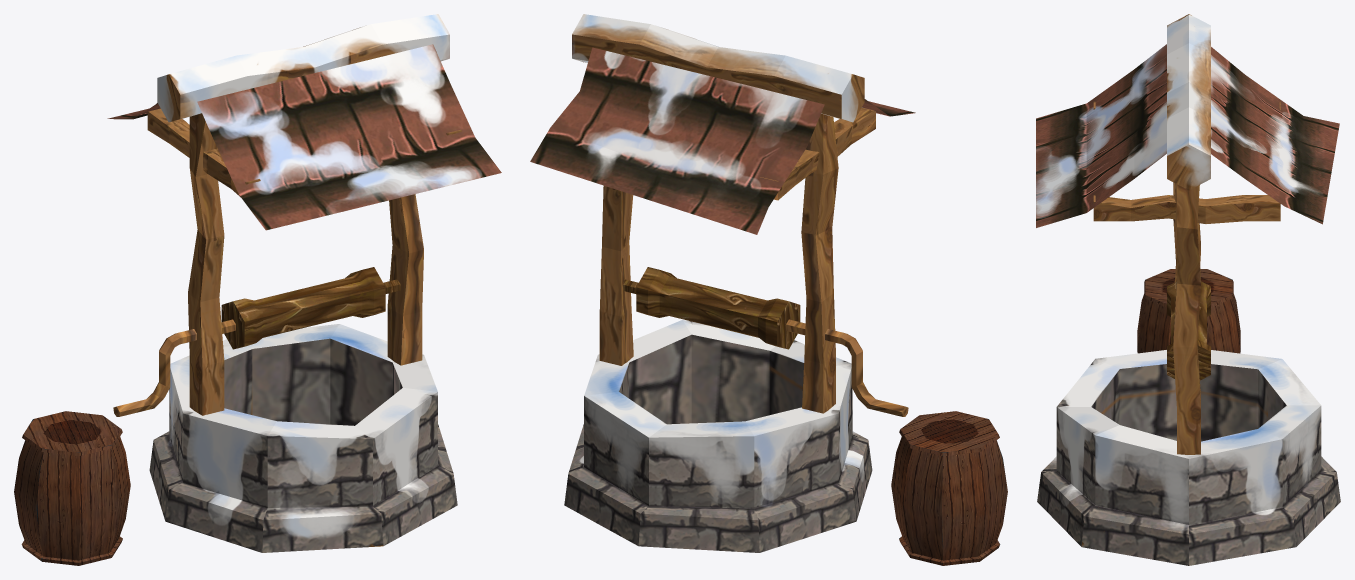
File: pond.fbx
The picture shows the model from 3 angles, left to right: view 1: azimuth 30°, elevation 25°; view 2: azimuth 150°, elevation 25°; view 3: azimuth 270°, elevation 25°; orthographic projection. The views are drawn at different scales.
Visible parts, largest first — view 1: pTorus2, pCylinder4; view 2: pTorus2, pCylinder4; view 3: pTorus2, pCylinder4.
Boxes of the visible parts, bbox=[...] form: pTorus2: bbox=[107, 14, 501, 552]; pCylinder4: bbox=[14, 411, 130, 565]; pTorus2: bbox=[530, 14, 915, 552]; pCylinder4: bbox=[891, 411, 1007, 565]; pTorus2: bbox=[1036, 14, 1340, 565]; pCylinder4: bbox=[1137, 269, 1240, 353].
Size of the model in its own units: 4.68 by 4.83 by 3.12.
